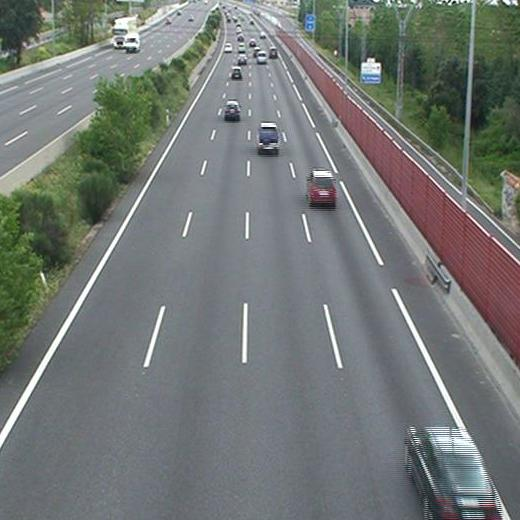car: (407, 428, 495, 520), (307, 172, 337, 205), (257, 123, 279, 151), (225, 101, 240, 118), (256, 51, 267, 63), (232, 68, 242, 78), (236, 55, 245, 64), (268, 48, 277, 56), (224, 44, 233, 52), (237, 44, 245, 51)
